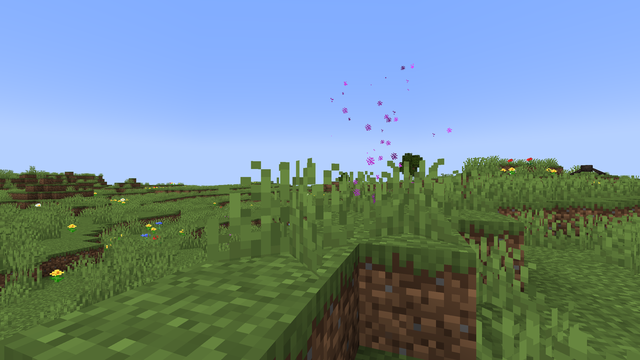araignees: (571, 163, 603, 174)
